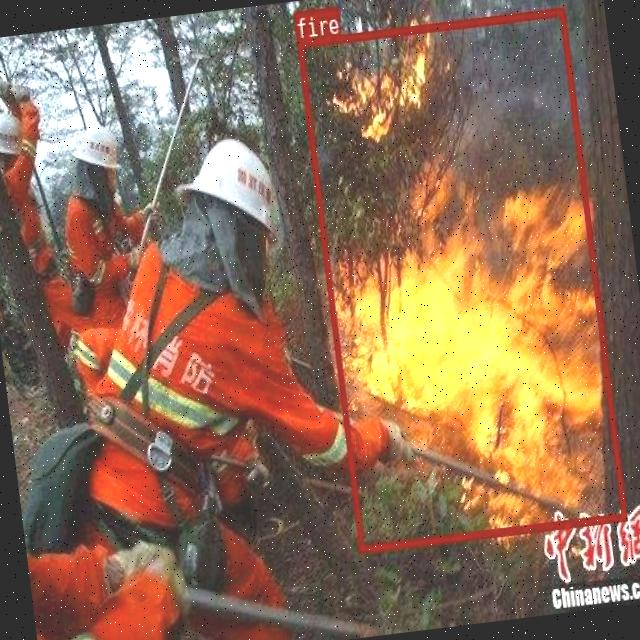fire: (296, 6, 625, 552)
